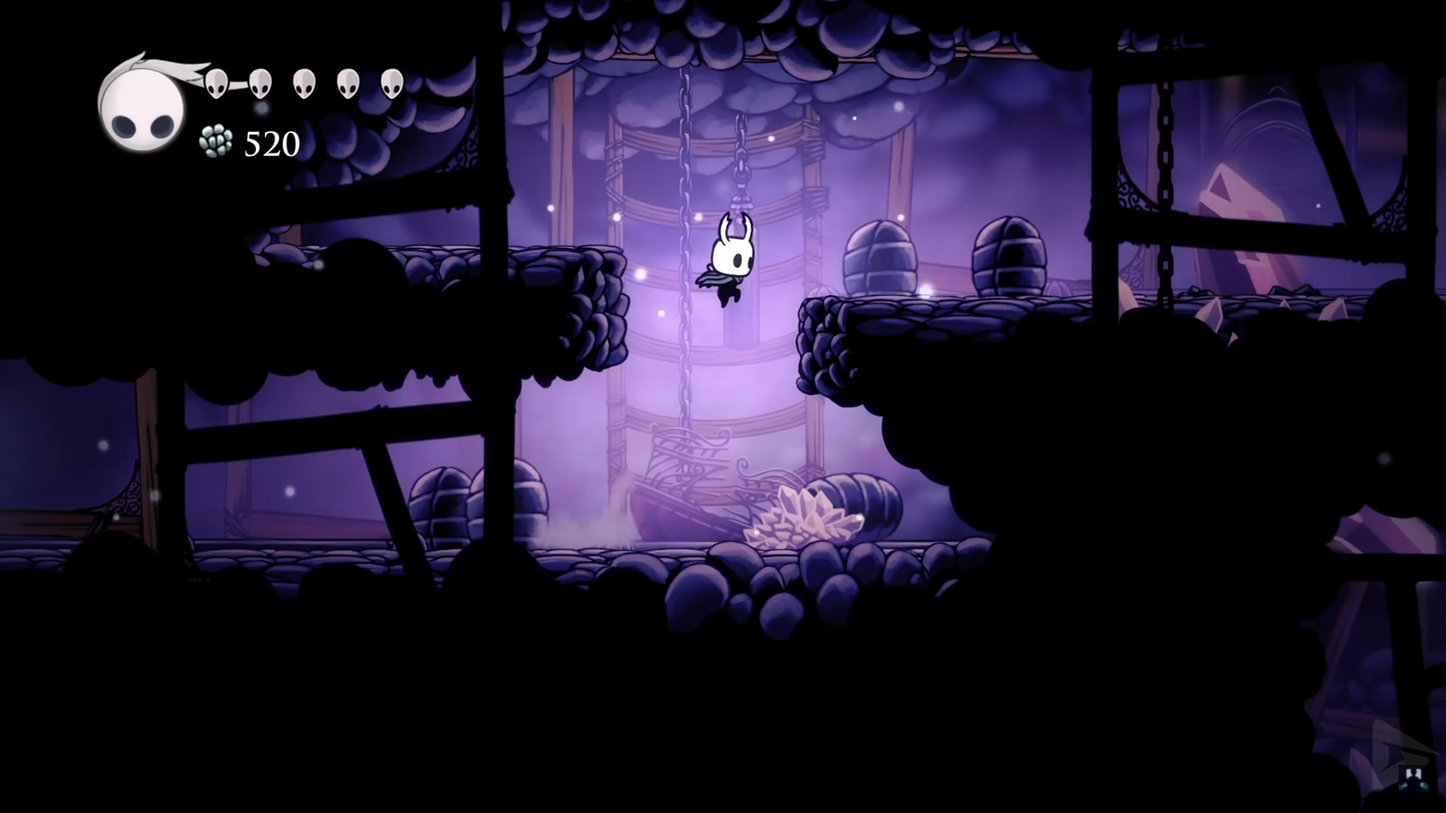HK: (700, 208, 761, 310)
